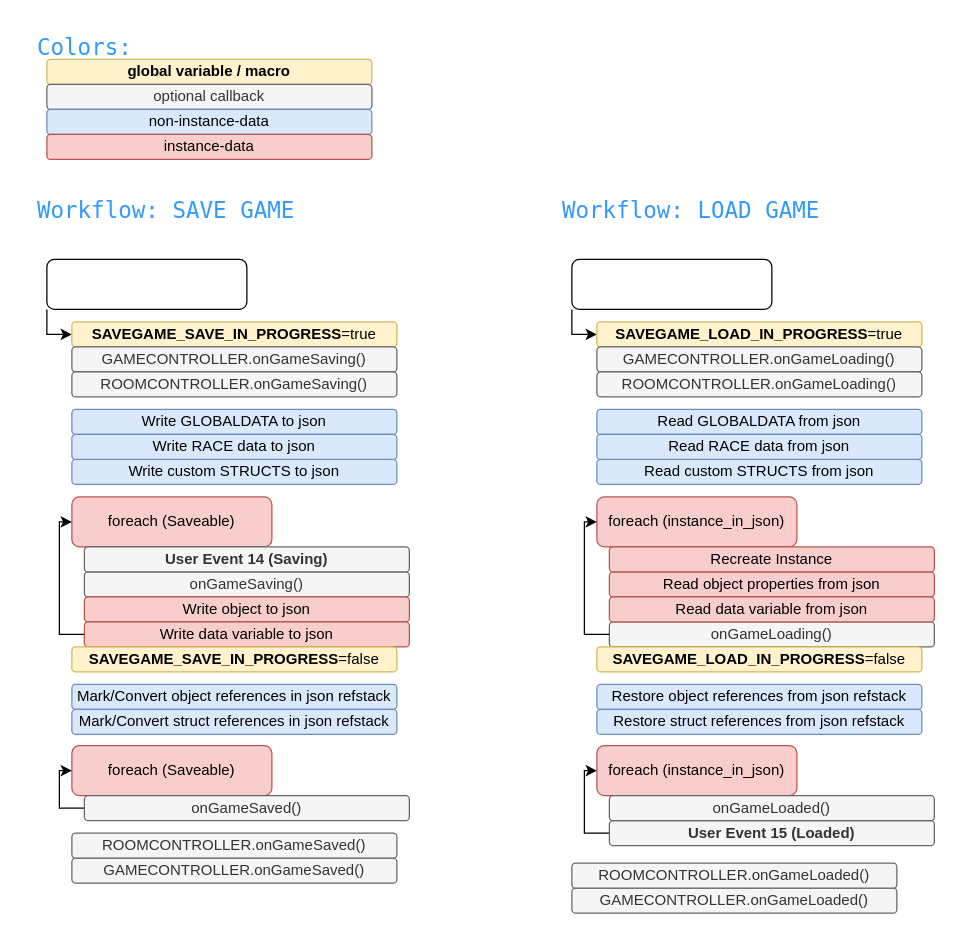
Some shapes in this 956 by 935 pixel diagram are drawn without their labels. Here are the shapes that lost their labels. From the top down, the centre of each, then its label:
At (x=146, y=283): "savegame_save_game".
At (x=671, y=283): "savegame_load_game".
